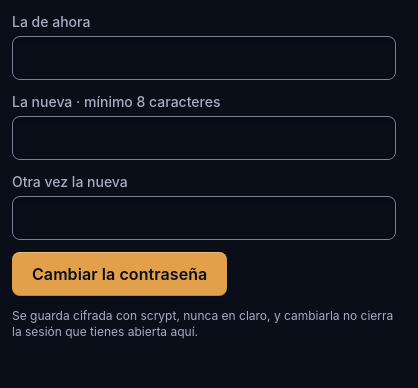
Cambiar la contraseña › enseña el motivo que da el servidor
The width and height of the screenshot is (418, 388).
Type "me-la-invento" into the password field labelled "La de ahora" at x=204, y=58, box [12,36,396,80]
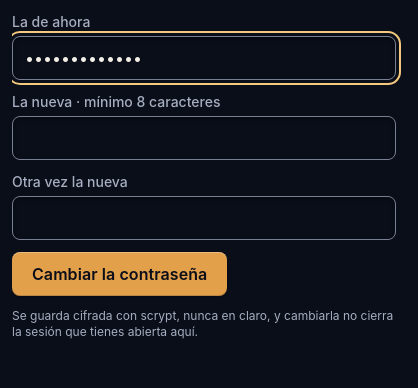
Type "una-nueva-larga" into the password field labelled "La nueva · mínimo 8 caracteres" at x=204, y=138, box [12,116,396,160]
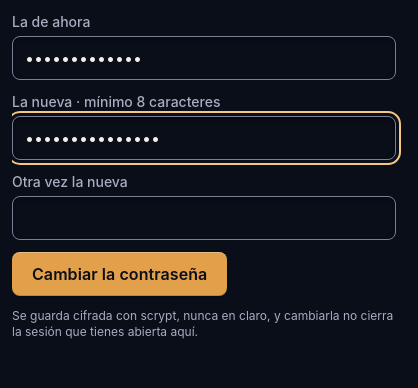
Type "una-nueva-larga" into the password field labelled "Otra vez la nueva" at x=204, y=218, box [12,196,396,240]
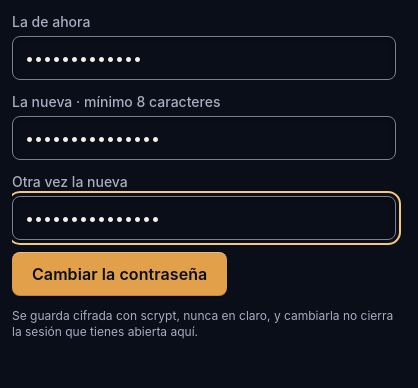
Click the button "Cambiar la contraseña" at x=120, y=274, box [12,252,227,296]
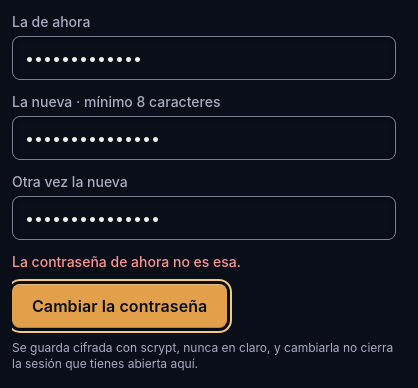
Expected: the text "La contraseña de ahora no es esa." is shown, [12,253,241,270]
